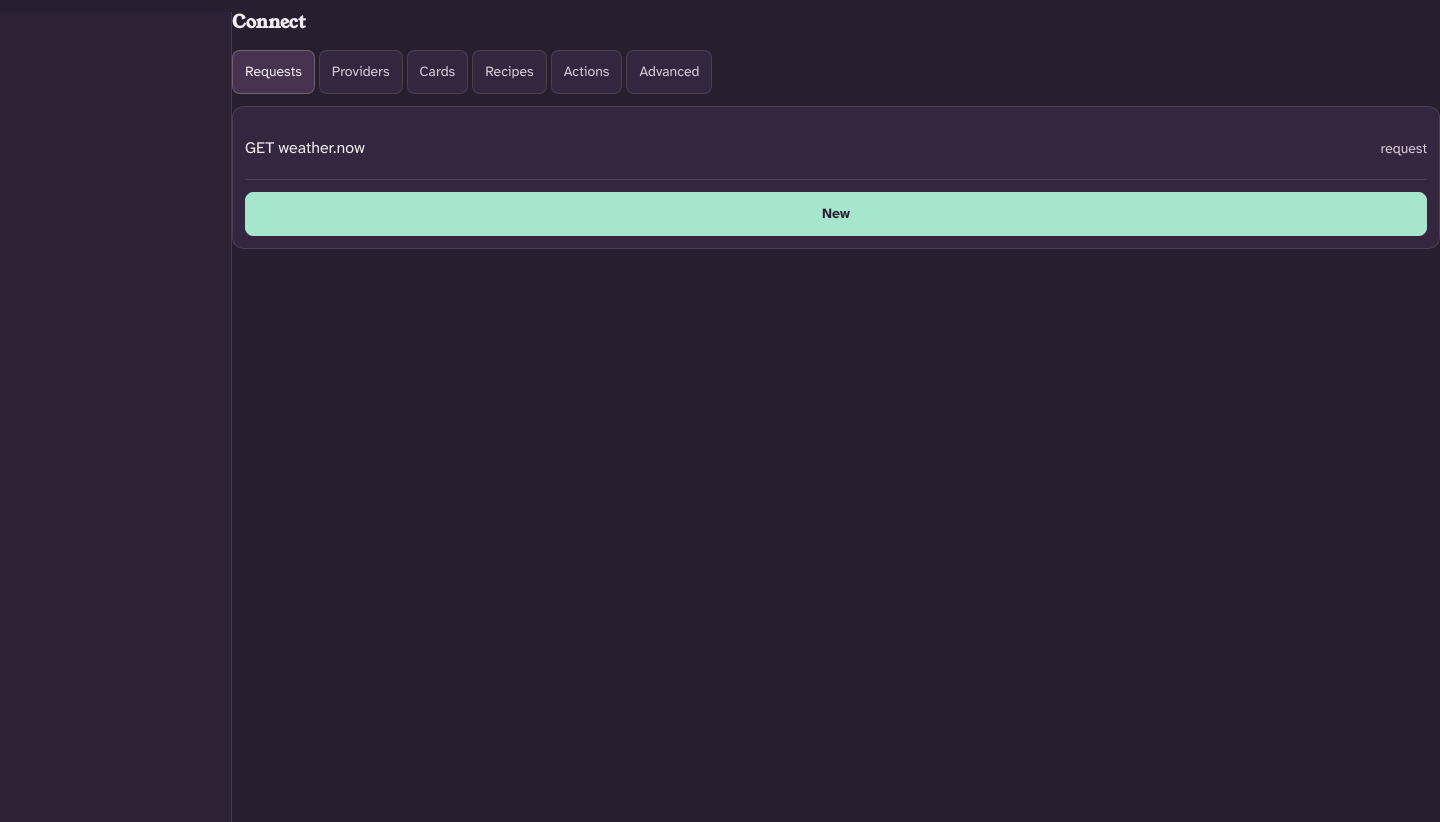
Scenario: Connect › Advanced: diagnostics list config kinds and errors, with no password input and no Replace control
Click the tab "Advanced": (669, 72) left=626, top=50, right=712, bottom=94
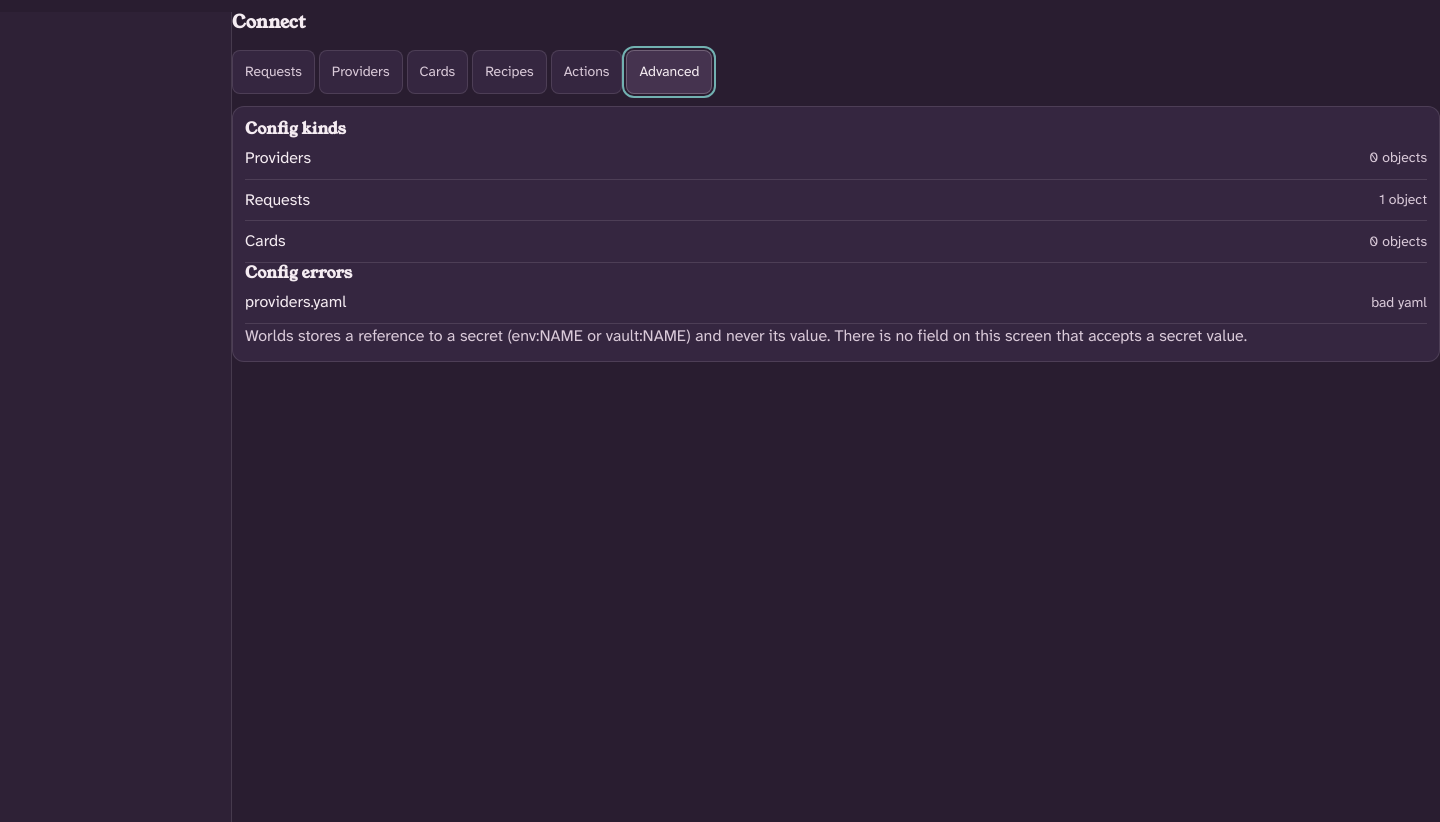
Expected: the text "Providers" is shown, left=245, top=147, right=311, bottom=168
Expected: the text "Requests" is shown, left=245, top=189, right=310, bottom=210
Expected: the text "1 object" is shown, left=1379, top=189, right=1427, bottom=211
